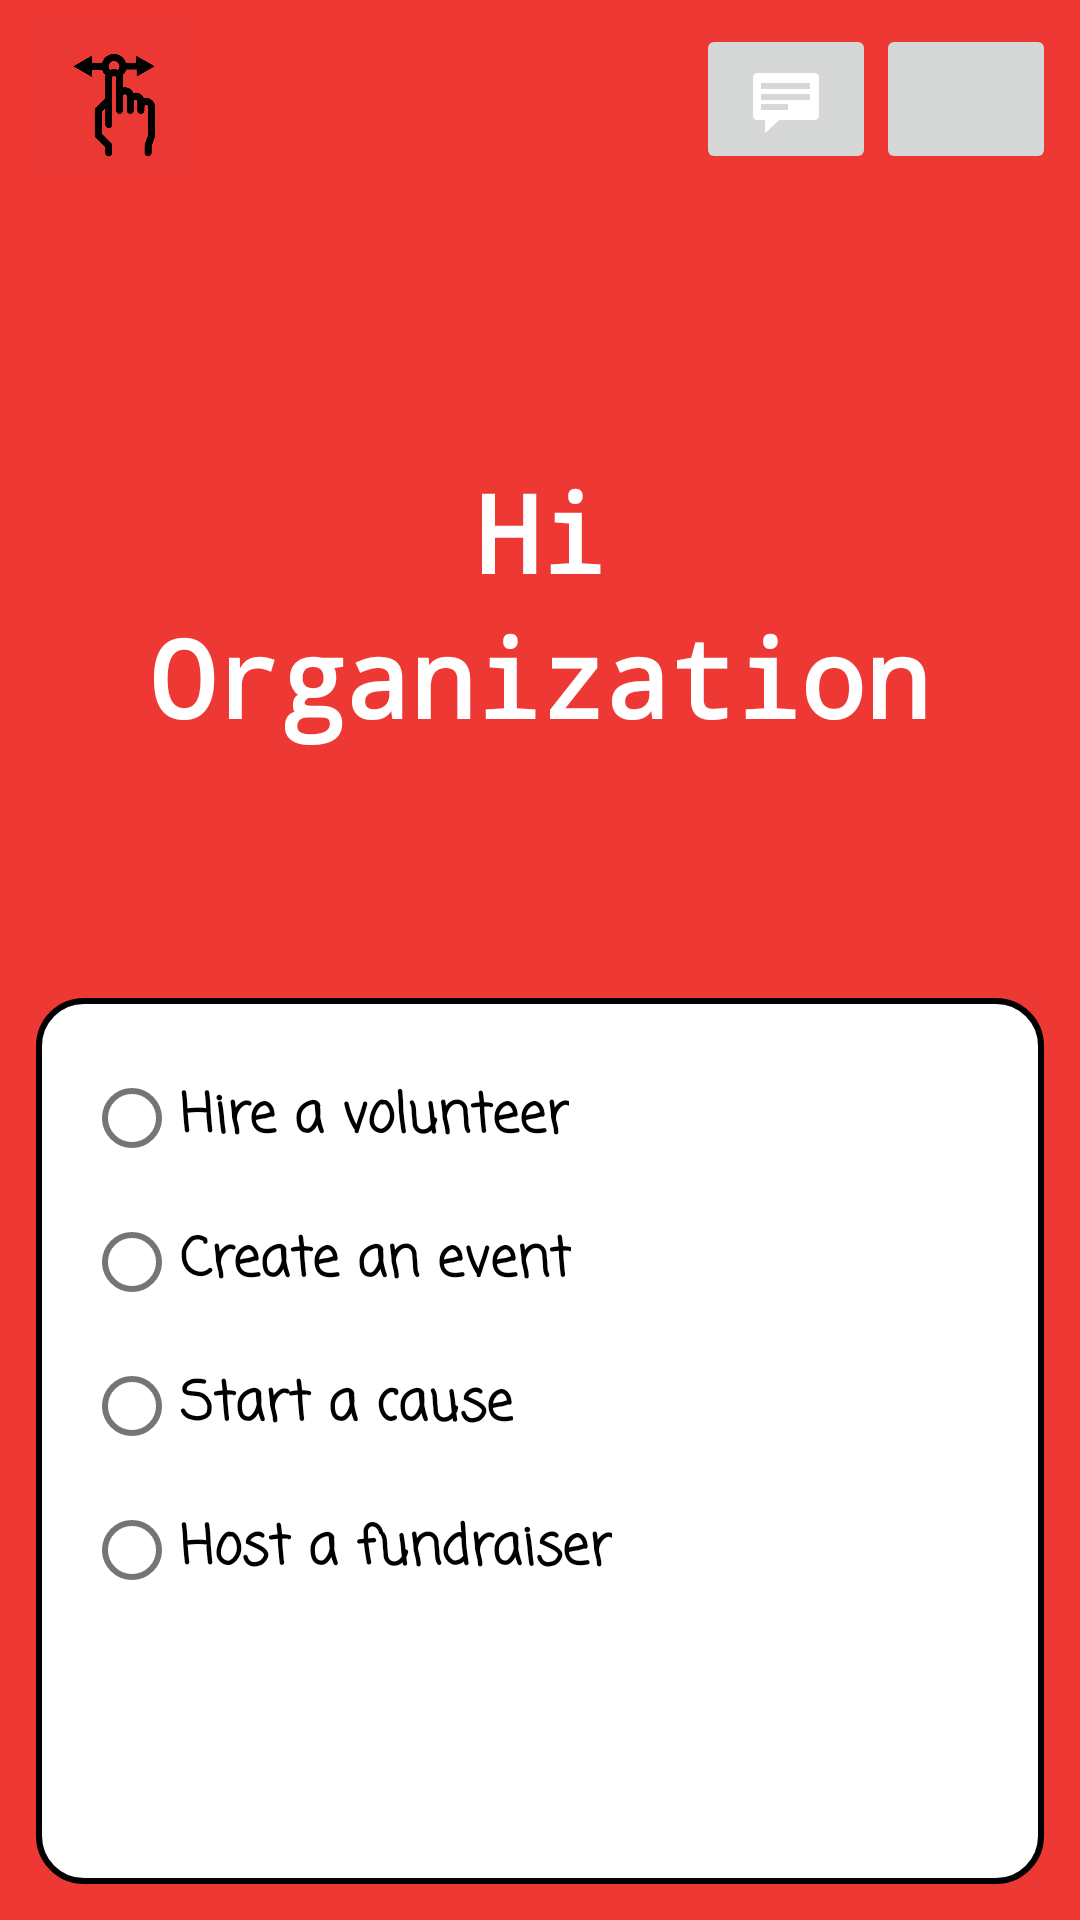

Icon click points for this 1080px x 1920px phone screenshot, format (x,y):
chat: (786,99)
navigate: (114,105)
